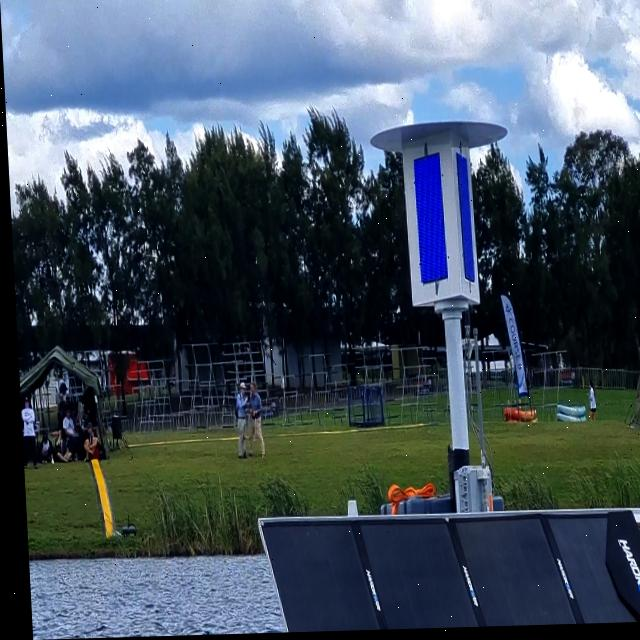led: (404, 147, 450, 290), (450, 140, 474, 294)
